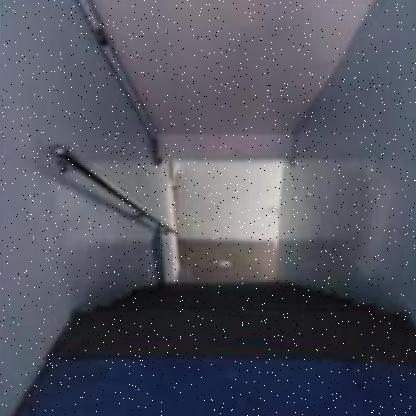stair_down: (136, 260, 318, 350)
